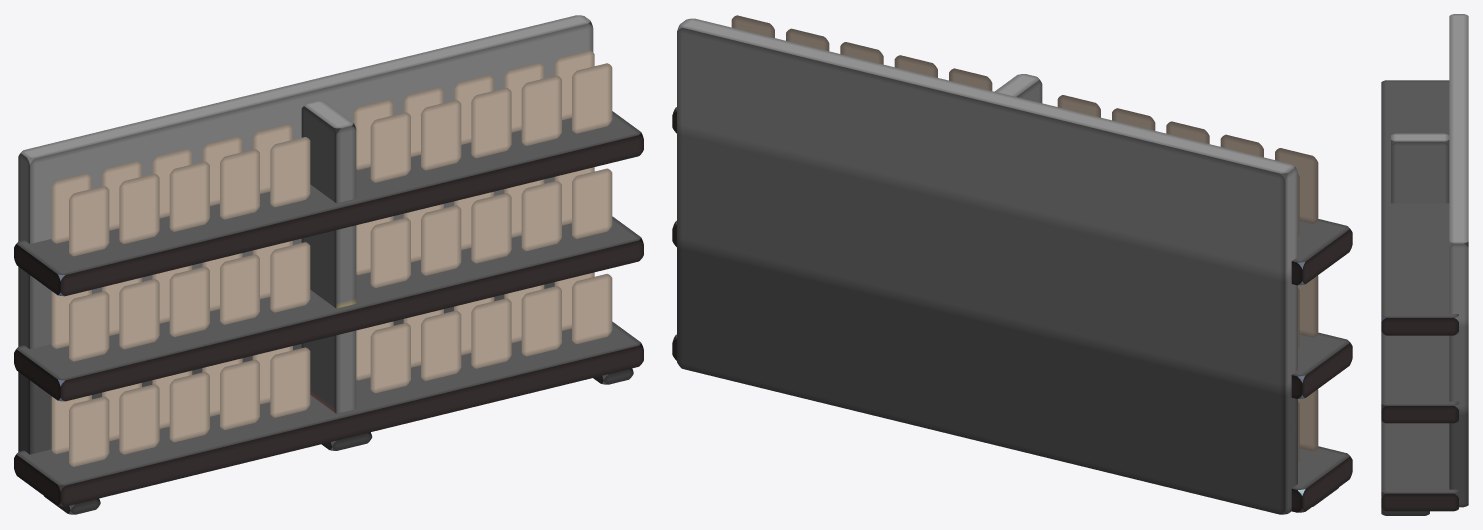
The model's file is Stall.fbx.
3 views of the same model, side by side, from view 1: azimuth 30°, elevation 25°; view 2: azimuth 150°, elevation 25°; view 3: azimuth 270°, elevation 25° (orthographic). The views are drawn at different scales.
Parts seen in each view (by area): view 1: cube, cube_2, cube_4, cube_3, cube_1, plane_52, plane_1, plane_4, plane_14, plane_20, plane_40, plane_31 (+47 smaller); view 2: cube, cube_3, cube_4, cube_2, plane_20, plane_10, plane, cube_1; view 3: cube_4, cube, cube_2, cube_3, cube_1, cube_7.
Boxes of the visible parts, x1,y1,x2,y2 form: cube: [18, 15, 593, 454]; cube_2: [14, 321, 643, 506]; cube_4: [14, 111, 643, 296]; cube_3: [14, 216, 643, 401]; cube_1: [301, 100, 356, 413]; plane_52: [471, 298, 511, 368]; plane_1: [119, 384, 159, 454]; plane_4: [270, 347, 310, 417]; plane_14: [270, 242, 310, 312]; plane_20: [69, 186, 109, 256]; plane_40: [370, 217, 410, 287]; plane_31: [421, 100, 461, 170]; cube: [677, 18, 1297, 514]; cube_3: [672, 220, 1352, 398]; cube_4: [672, 107, 1352, 285]; cube_2: [672, 334, 1352, 512]; plane_20: [1275, 148, 1318, 223]; plane_10: [1298, 275, 1318, 337]; plane: [1298, 389, 1318, 451]; cube_1: [995, 74, 1042, 102]; cube_4: [1381, 80, 1458, 335]; cube: [1449, 14, 1468, 507]; cube_2: [1381, 421, 1458, 511]; cube_3: [1381, 334, 1458, 423]; cube_1: [1391, 133, 1449, 203]; cube_7: [1381, 497, 1429, 515].
Bounding box in the file's own units: 362 × 194 × 56.25.
1 material, 1 textured.
